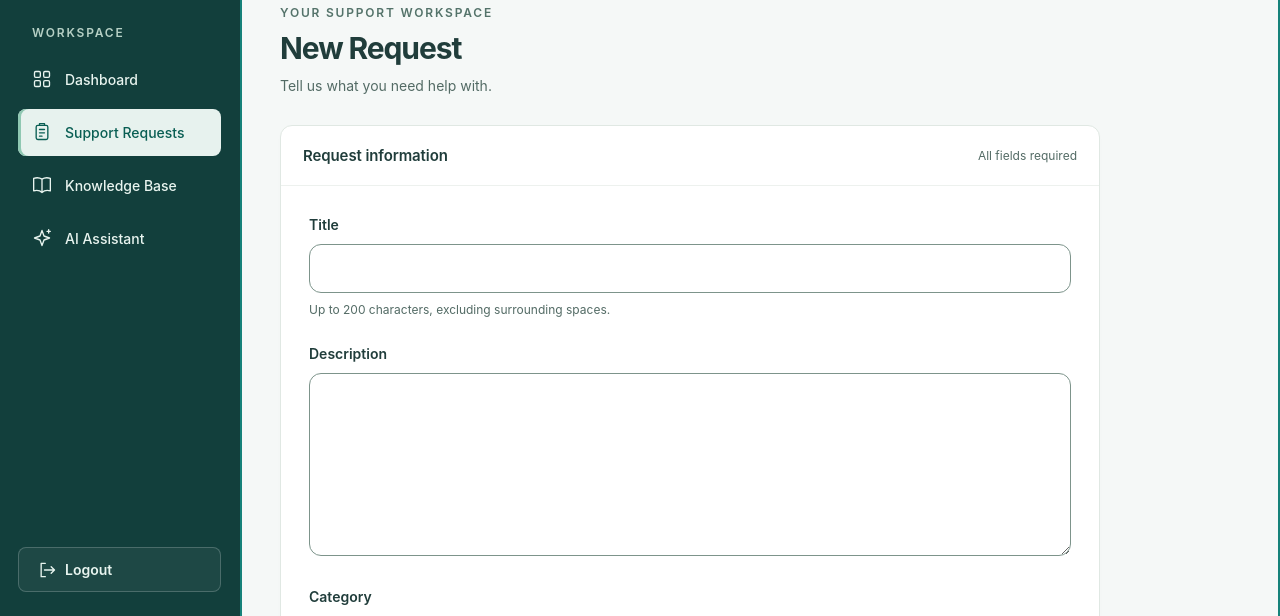
Test: request creation › matches backend trimming and Unicode title length, creates, and opens real details
The width and height of the screenshot is (1280, 616).
(page scrolled)
Type "  😀😀😀😀😀😀😀😀😀😀😀😀😀😀😀😀😀😀😀😀😀😀😀😀😀😀😀😀😀😀😀😀😀😀😀😀😀😀😀😀😀😀😀😀😀😀😀😀😀😀😀😀😀😀😀😀😀😀😀😀😀😀😀😀😀😀😀😀😀😀😀😀😀😀😀😀😀😀😀😀😀😀😀😀😀😀😀😀😀😀😀😀😀😀😀😀😀😀😀😀😀😀😀😀😀😀😀😀😀😀😀😀😀😀😀😀😀😀😀😀😀😀😀😀😀😀😀😀😀😀😀😀😀😀😀😀😀😀😀😀😀😀😀😀😀😀😀😀😀😀😀😀😀😀😀😀😀😀😀😀😀😀😀😀😀😀😀😀😀😀😀😀😀😀😀😀😀😀😀😀😀😀😀😀😀😀😀😀😀😀😀😀😀😀😀😀😀😀" into the field labelled "Title". click: (690, 269)
box: [309,244,1071,293]
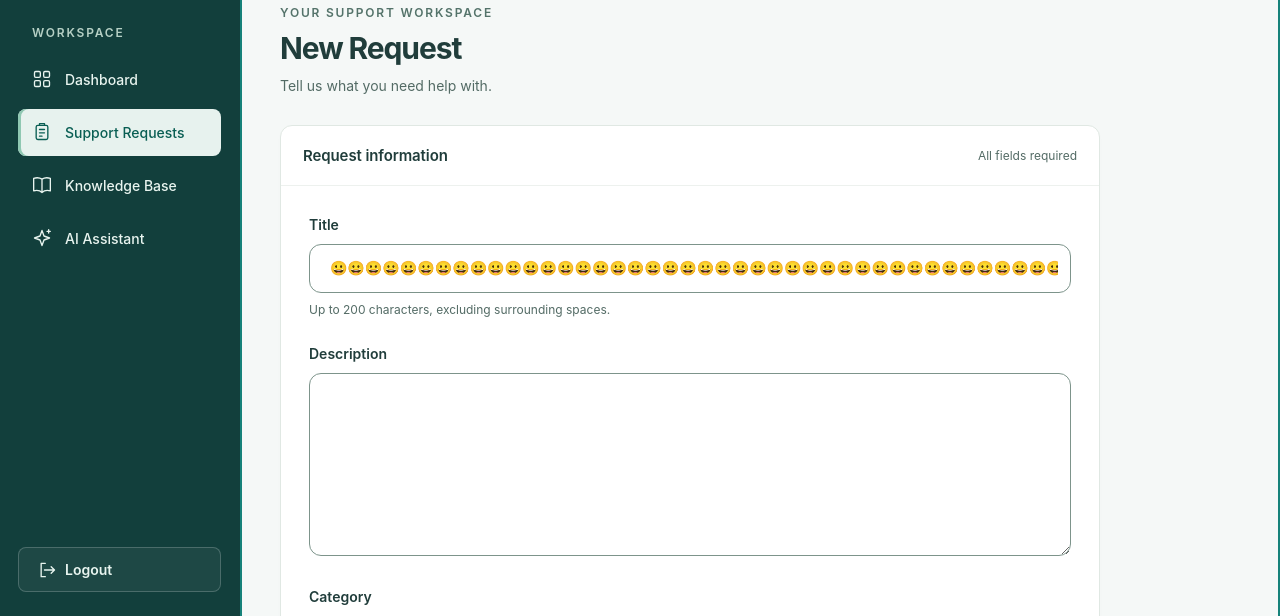
Type "Synthetic new details." into the text box labelled "Description". click: (690, 464)
box: [309,373,1071,556]
(page scrolled)
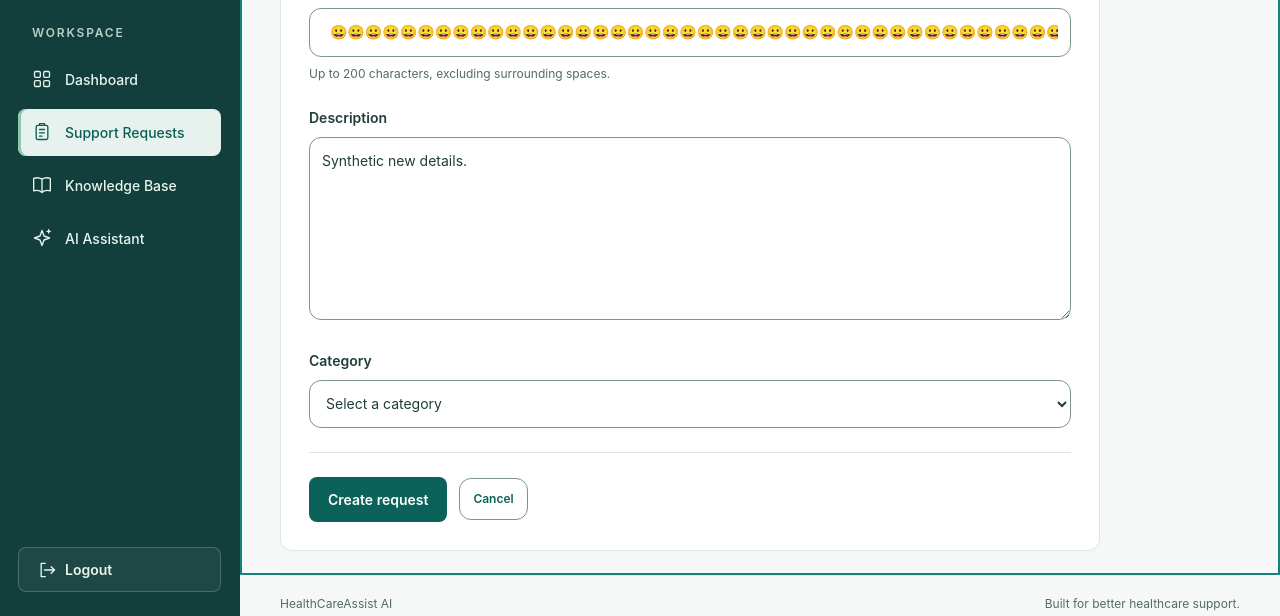
Select "Claims" in the dropdown labelled "Category". click: (690, 404)
box: [309,380,1071,428]
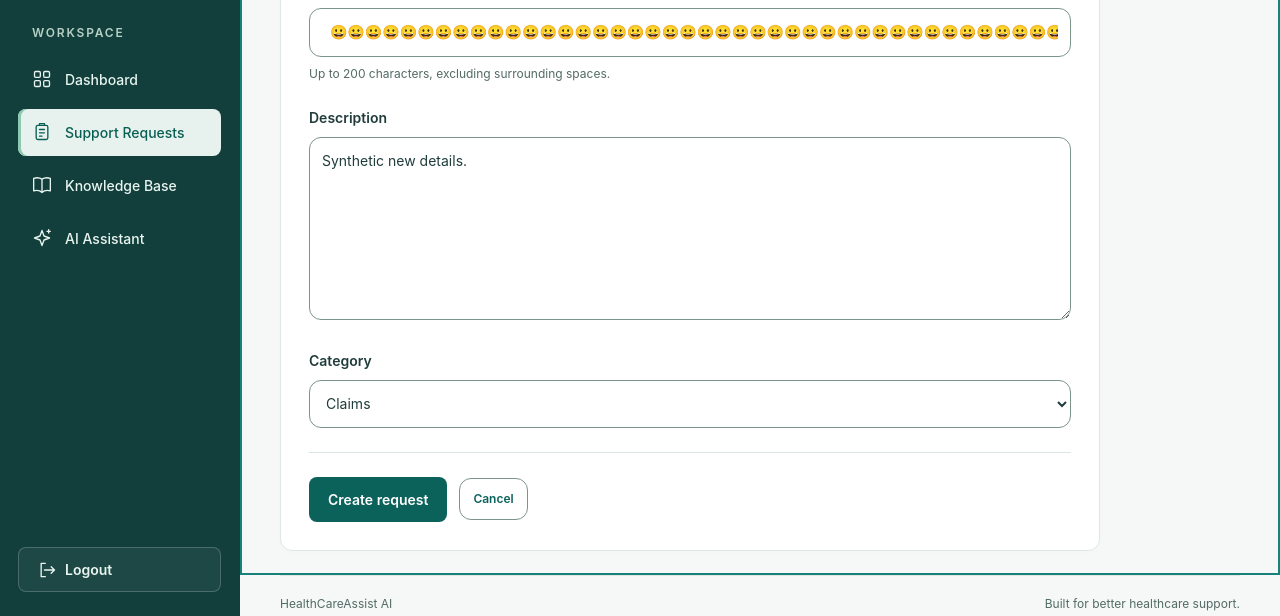
Click the button "Create request". click: (378, 499)
box: [309,477,447,522]
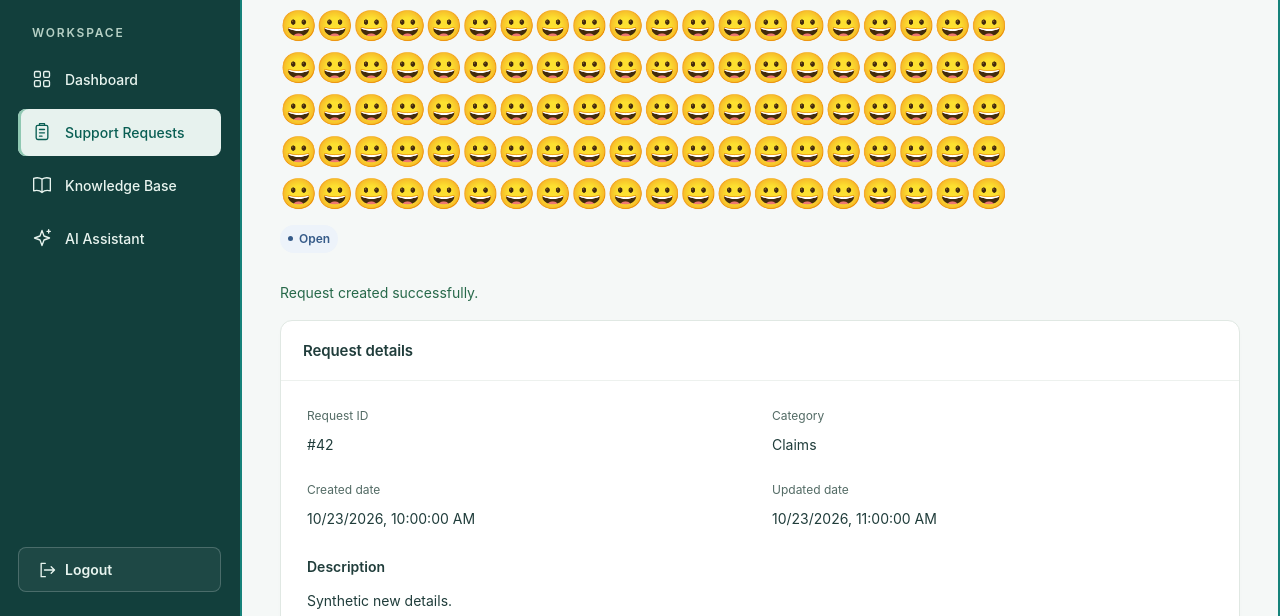
expect the text "Request created successfully." is shown: met, box [280,284,478,300]
expect the text "Synthetic new details." is shown: met, box [307,592,452,610]
